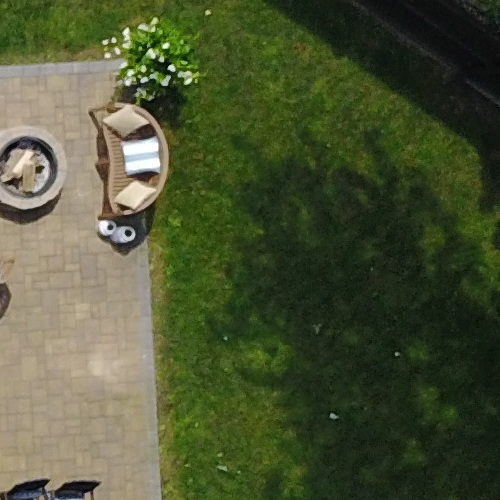container: (111, 221, 136, 254), (94, 217, 122, 240)
